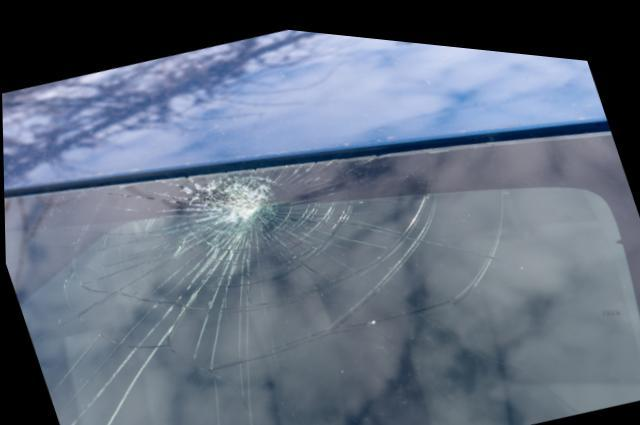glass shatter: (3, 117, 640, 425)
